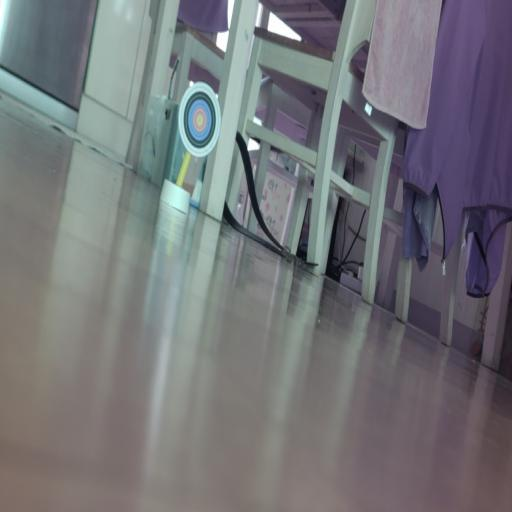target: (178, 82, 221, 157)
